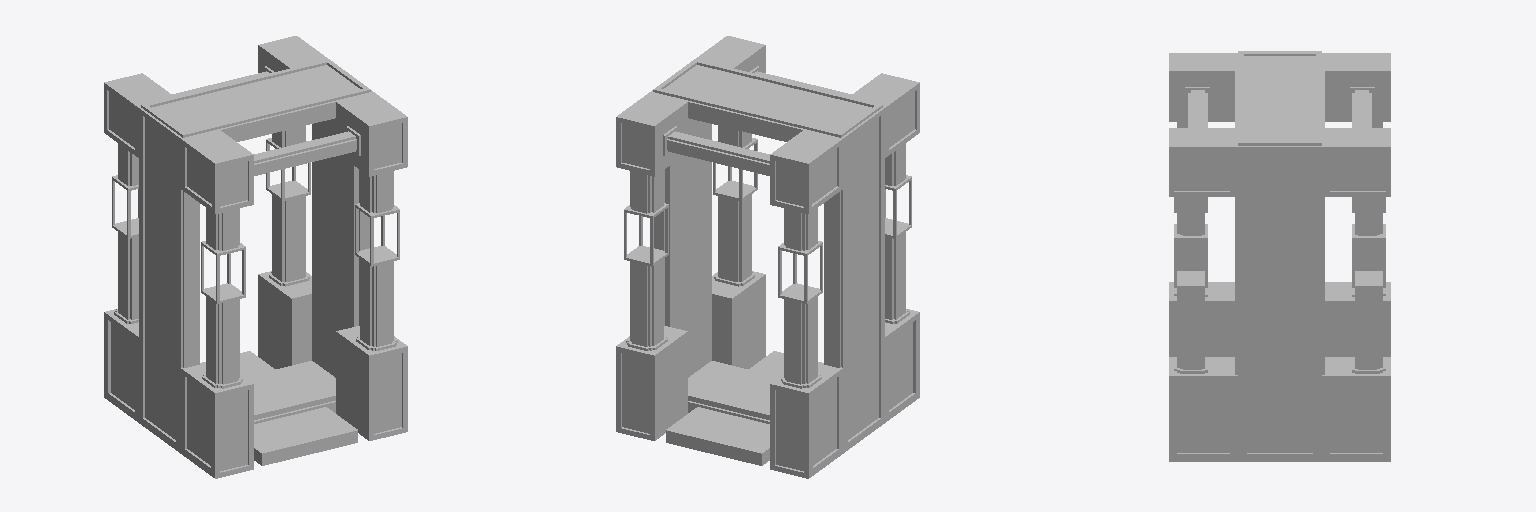
Rendered from teleportGate.obj.
3 renders of one model, left to right at view 1: azimuth 30°, elevation 25°; view 2: azimuth 150°, elevation 25°; view 3: azimuth 270°, elevation 25°, orthographic.
Parts seen in each view (by area): view 1: Teleport_Gate; view 2: Teleport_Gate; view 3: Teleport_Gate.
Boxes of the visible parts, <box> form: Teleport_Gate: <box>104,36,407,478</box>; Teleport_Gate: <box>616,36,919,478</box>; Teleport_Gate: <box>1169,51,1390,461</box>.
Size of the model in its own units: 80 by 126 by 80.